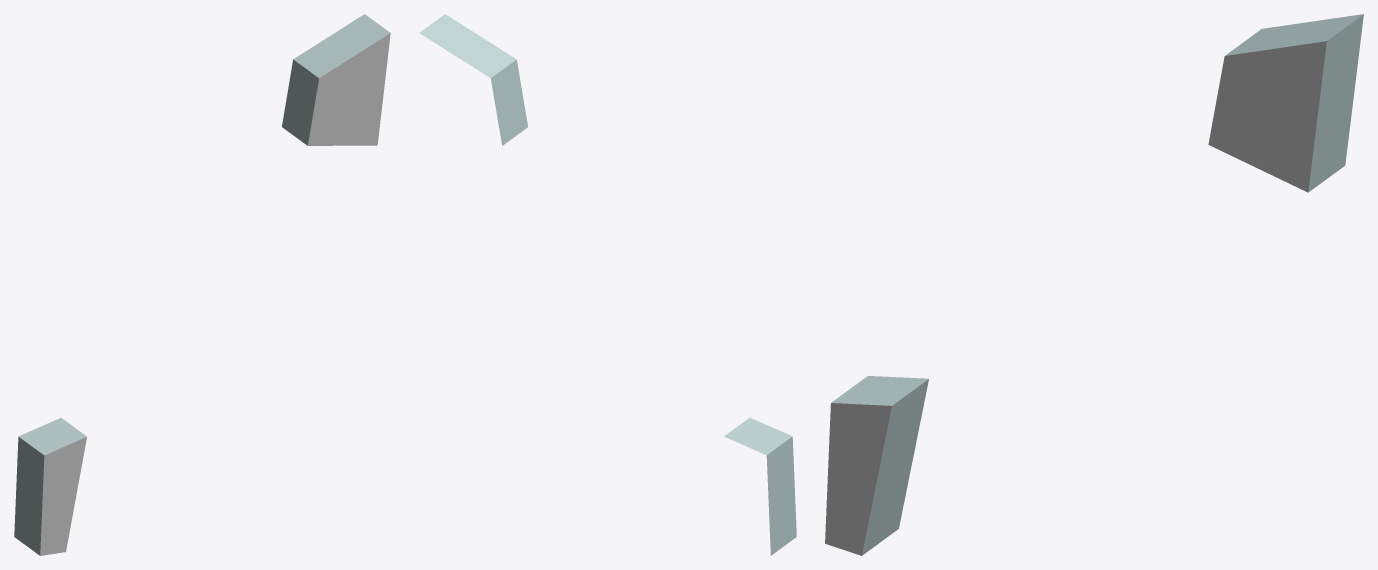
3 renders of one model, left to right at view 1: azimuth 30°, elevation 25°; view 2: azimuth 150°, elevation 25°; view 3: azimuth 330°, elevation 25°, orthographic. The views are drawn at different scales.
Parts seen in each view (by area): view 1: 0_1_2_2_0_0_3_0_3; view 2: 0_1_2_2_0_0_3_0_3; view 3: 0_1_2_2_0_0_3_0_3.
Boxes of the visible parts, x1,y1,x2,y2 form: 0_1_2_2_0_0_3_0_3: (14,14,390,555); 0_1_2_2_0_0_3_0_3: (419,14,796,555); 0_1_2_2_0_0_3_0_3: (825,14,1363,555).
Size of the model in its own units: 23.4 by 28 by 3.05.
